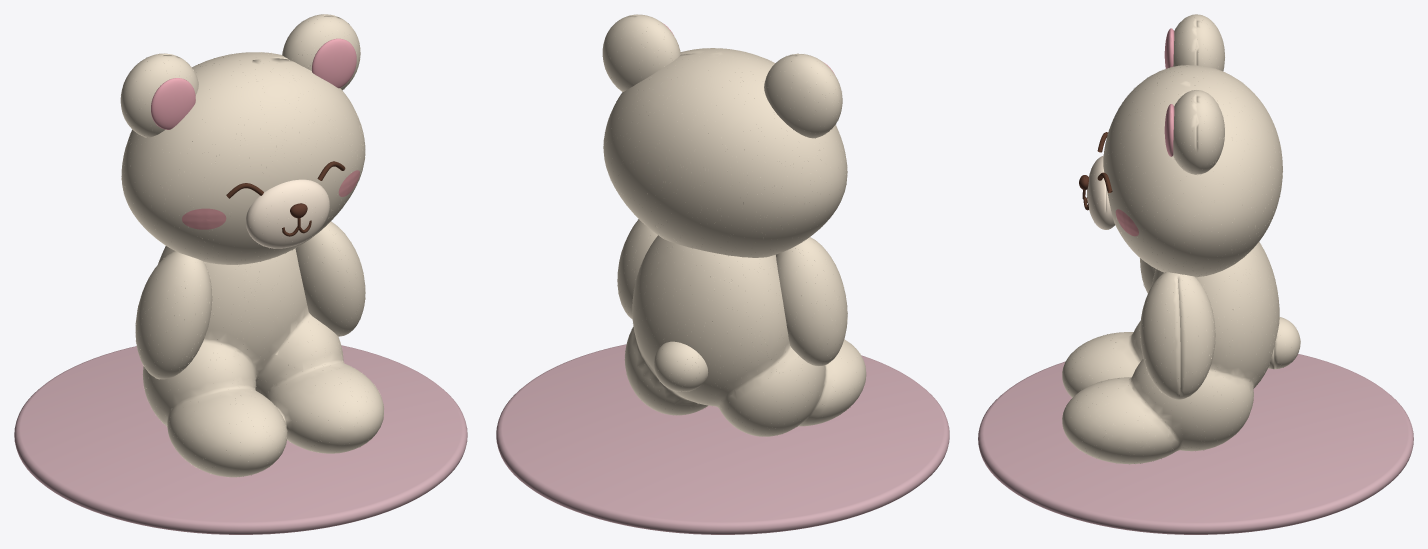
The model's file is cream-teddy-web.glb.
3 renders of one model, left to right at view 1: azimuth 30°, elevation 25°; view 2: azimuth 150°, elevation 25°; view 3: azimuth 270°, elevation 25°, orthographic. The views are drawn at different scales.
Visible parts, largest first — view 1: ENV_display_plinth, HERO_seated_body, HERO_full_cheek_head, HERO_left_hugging_arm, HERO_right_hugging_arm, FACE_cream_muzzle, HERO_left_round_ear, HERO_right_round_ear, FACE_left_pink_ear_inset, FACE_right_pink_ear_inset, FACE_-1_velvet_blush; view 2: ENV_display_plinth, HERO_full_cheek_head, HERO_seated_body, HERO_left_hugging_arm, HERO_left_round_ear, HERO_right_round_ear, HERO_small_tail, HERO_right_hugging_arm; view 3: ENV_display_plinth, HERO_full_cheek_head, HERO_seated_body, HERO_right_hugging_arm, HERO_right_round_ear, HERO_left_round_ear, FACE_cream_muzzle, HERO_small_tail.
Part boxes in pixels (bbox=[...]): ENV_display_plinth: bbox=[14, 345, 467, 534]; HERO_seated_body: bbox=[142, 246, 383, 477]; HERO_full_cheek_head: bbox=[121, 52, 365, 264]; HERO_left_hugging_arm: bbox=[135, 251, 212, 379]; HERO_right_hugging_arm: bbox=[295, 221, 365, 336]; FACE_cream_muzzle: bbox=[246, 179, 329, 248]; HERO_left_round_ear: bbox=[120, 53, 198, 137]; HERO_right_round_ear: bbox=[282, 14, 360, 90]; FACE_left_pink_ear_inset: bbox=[151, 78, 195, 129]; FACE_right_pink_ear_inset: bbox=[312, 38, 356, 88]; FACE_-1_velvet_blush: bbox=[182, 208, 226, 229]; ENV_display_plinth: bbox=[496, 344, 949, 534]; HERO_full_cheek_head: bbox=[603, 48, 847, 257]; HERO_seated_body: bbox=[624, 235, 866, 436]; HERO_left_hugging_arm: bbox=[776, 237, 847, 366]; HERO_left_round_ear: bbox=[764, 53, 842, 138]; HERO_right_round_ear: bbox=[602, 14, 680, 91]; HERO_small_tail: bbox=[654, 341, 708, 391]; HERO_right_hugging_arm: bbox=[617, 219, 657, 319]; ENV_display_plinth: bbox=[978, 354, 1413, 534]; HERO_full_cheek_head: bbox=[1103, 65, 1282, 277]; HERO_seated_body: bbox=[1062, 242, 1279, 464]; HERO_right_hugging_arm: bbox=[1140, 272, 1215, 399]; HERO_right_round_ear: bbox=[1173, 90, 1224, 174]; HERO_left_round_ear: bbox=[1173, 14, 1224, 71]; FACE_cream_muzzle: bbox=[1087, 155, 1114, 229]; HERO_small_tail: bbox=[1268, 317, 1300, 369].
Bounding box in the file's own units: 0.6 × 0.5914 × 0.6.
